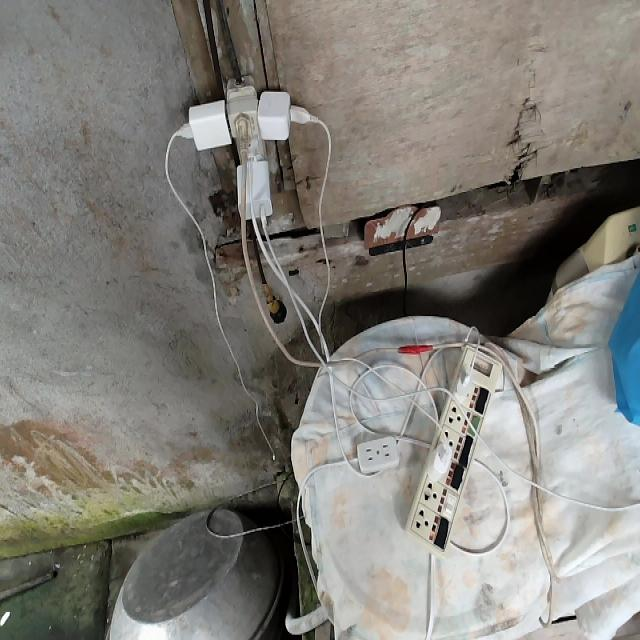-: (183, 72, 306, 223)
